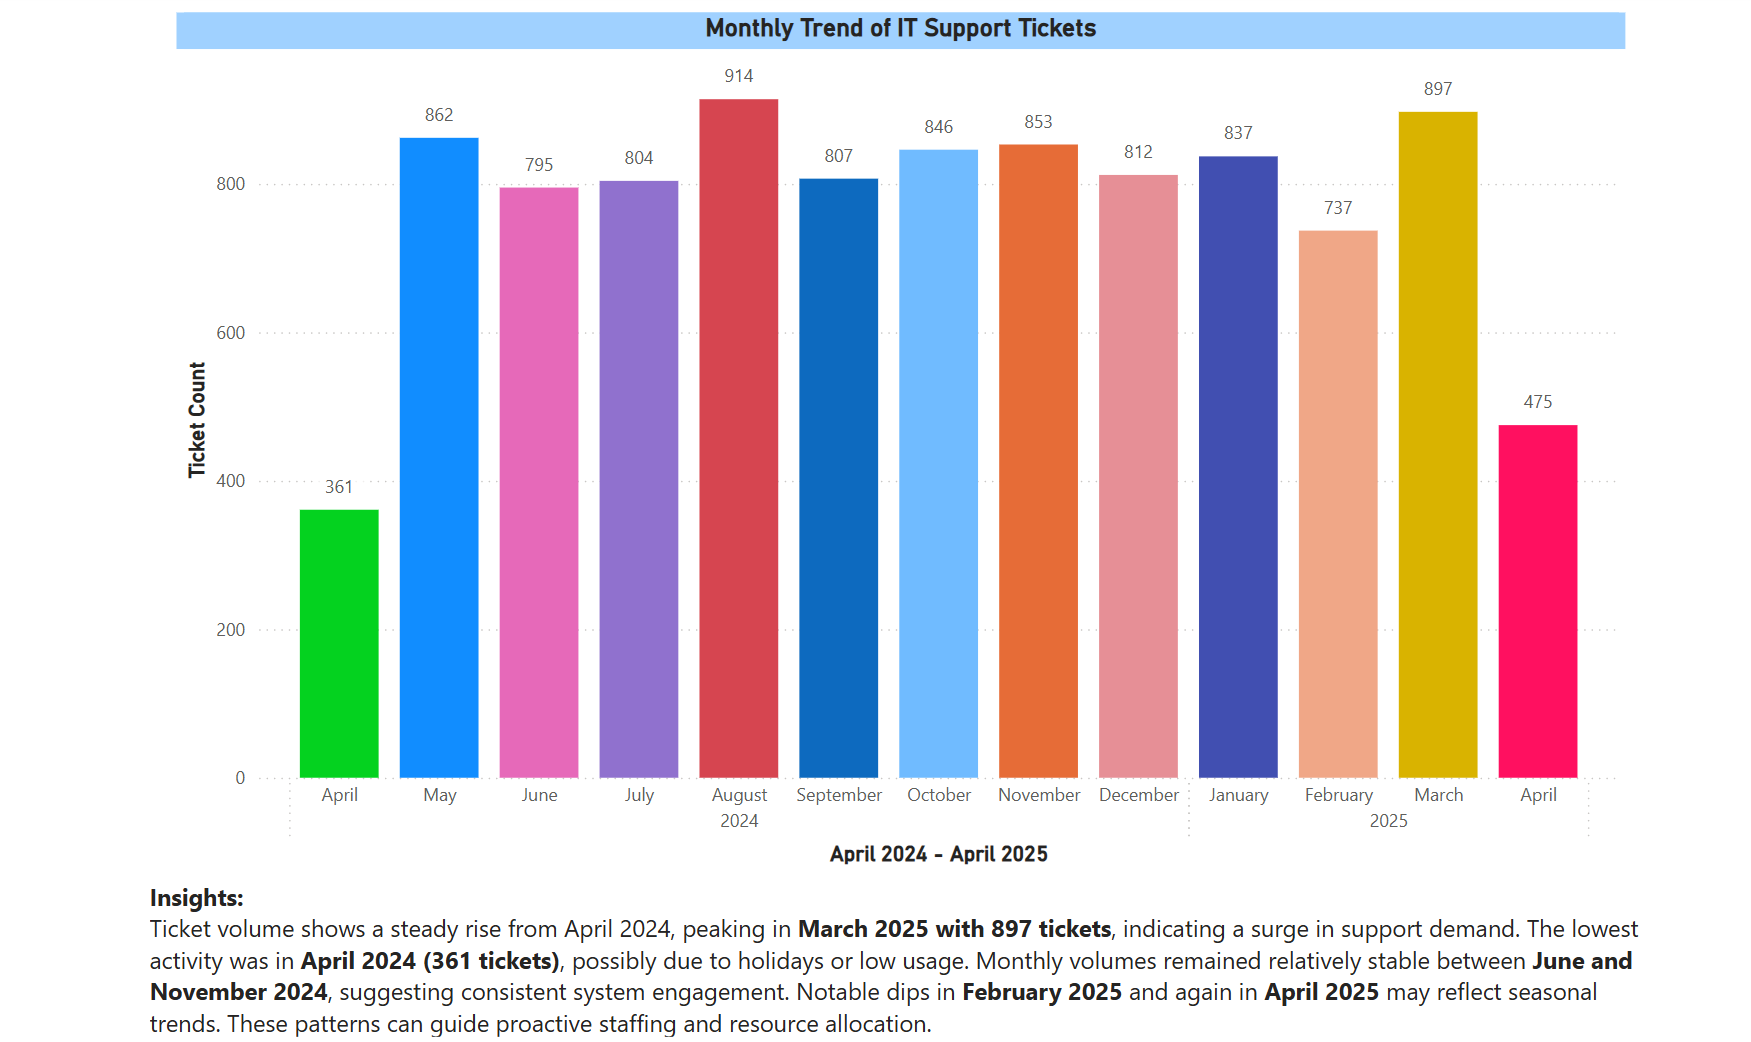

What the dashboard file says about the page in this screenshot:
{"tool":"powerbi","page":{"name":"Monthly Trend of IT Support Tickets","canvas":[1280,720],"ordinal":3},"visuals":[{"type":"lineClusteredColumnComboChart","title":"Monthly Trend of IT Support Tickets","fields":{"Category":["monthly_volume csv.Month.Variation.Date Hierarchy.Year","monthly_volume csv.Month.Variation.Date Hierarchy.Month"],"Y":["Sum(monthly_volume csv.Ticket_Count)"]},"box":[151,13.2,978.7,580.6],"z":0},{"type":"textbox","box":[127.7,593.7,1026.4,116.5],"z":1}]}

Visuals, with their boxes on the page's 1280x720 design canvas (x1, y1, x2, y2). These are canvas units, not pixel positions in the 1751x1042 screenshot, which may show the page scaled, cropped or inside an application window:
"Monthly Trend of IT Support Tickets" lineClusteredColumnComboChart: <region>151, 13, 1130, 594</region>
textbox: <region>128, 594, 1154, 710</region>
